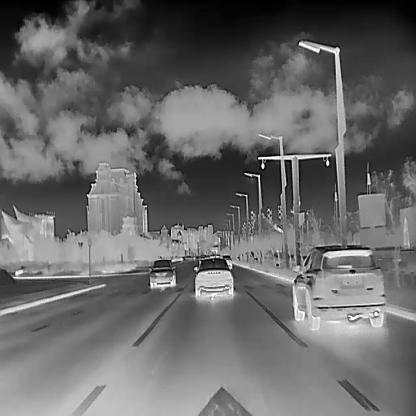car: (292, 243, 386, 328), (192, 254, 233, 300), (147, 258, 175, 288), (221, 254, 231, 268)
